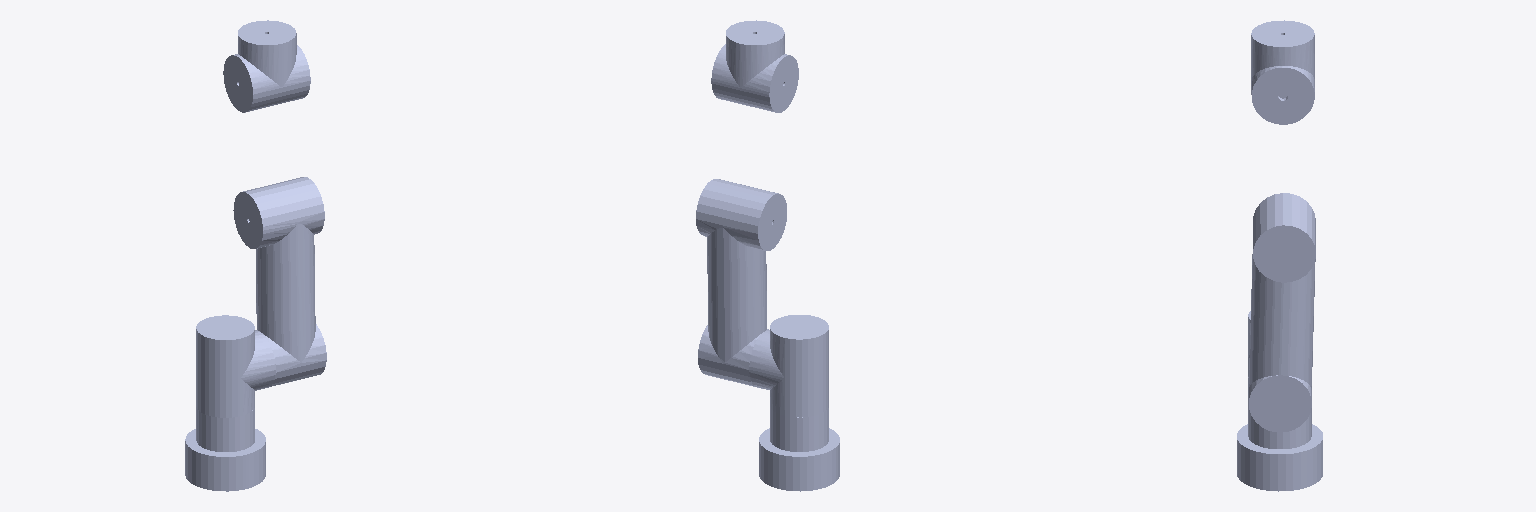
robot.urdf — ciara7:
<?xml version="1.0" encoding="utf-8"?>
<!-- This URDF was automatically created by SolidWorks to URDF Exporter! Originally created by Stephen Brawner (brawner@gmail.com) 
     Commit Version: 1.6.0-4-g7f85cfe  Build Version: 1.6.7995.38578
     For more information, please see http://wiki.ros.org/sw_urdf_exporter -->
<robot
  name="ciara7">
  <link
    name="base_link">
    <inertial>
      <origin
        xyz="-5.3047E-35 0.033905 1.1704E-18"
        rpy="0 0 0" />
      <mass
        value="0.34784" />
      <inertia
        ixx="0.00030423"
        ixy="-9.4382E-37"
        ixz="-3.5725E-37"
        iyy="0.00026302"
        iyz="4.9311E-21"
        izz="0.00030423" />
    </inertial>
    <visual>
      <origin
        xyz="0 0 0"
        rpy="0 0 0" />
      <geometry>
        <mesh
          filename="package://ciara7/meshes/base_link.STL" />
      </geometry>
      <material
        name="">
        <color
          rgba="0.79216 0.81961 0.93333 1" />
      </material>
    </visual>
    <collision>
      <origin
        xyz="0 0 0"
        rpy="0 0 0" />
      <geometry>
        <mesh
          filename="package://ciara7/meshes/base_link.STL" />
      </geometry>
    </collision>
  </link>
  <link
    name="link_1">
    <inertial>
      <origin
        xyz="0.0053016 1.7101E-05 0.084795"
        rpy="0 0 0" />
      <mass
        value="0.32209" />
      <inertia
        ixx="0.00027535"
        ixy="-1.1347E-07"
        ixz="2.0251E-06"
        iyy="0.00031023"
        iyz="6.6064E-09"
        izz="0.00019728" />
    </inertial>
    <visual>
      <origin
        xyz="0 0 0"
        rpy="0 0 0" />
      <geometry>
        <mesh
          filename="package://ciara7/meshes/link_1.STL" />
      </geometry>
      <material
        name="">
        <color
          rgba="0.79216 0.81961 0.93333 1" />
      </material>
    </visual>
    <collision>
      <origin
        xyz="0 0 0"
        rpy="0 0 0" />
      <geometry>
        <mesh
          filename="package://ciara7/meshes/link_1.STL" />
      </geometry>
    </collision>
  </link>
  <joint
    name="jnt_1"
    type="revolute">
    <origin
      xyz="0 0 0.04"
      rpy="0 0 0" />
    <parent
      link="base_link" />
    <child
      link="link_1" />
    <axis
      xyz="0 0 1" />
    <limit
      lower="-1.5708"
      upper="1.5708"
      effort="1.9613"
      velocity="3" />
  </joint>
  <link
    name="link_2">
    <inertial>
      <origin
        xyz="0.0022102 0.085247 0.07203"
        rpy="0 0 0" />
      <mass
        value="0.74363" />
      <inertia
        ixx="0.0033845"
        ixy="-7.6454E-05"
        ixz="2.9253E-06"
        iyy="0.00043764"
        iyz="0.00011281"
        izz="0.0033235" />
    </inertial>
    <visual>
      <origin
        xyz="0 0 0"
        rpy="0 0 0" />
      <geometry>
        <mesh
          filename="package://ciara7/meshes/link_2.STL" />
      </geometry>
      <material
        name="">
        <color
          rgba="0.79216 0.81961 0.93333 1" />
      </material>
    </visual>
    <collision>
      <origin
        xyz="0 0 0"
        rpy="0 0 0" />
      <geometry>
        <mesh
          filename="package://ciara7/meshes/link_2.STL" />
      </geometry>
    </collision>
  </link>
  <joint
    name="jnt_2"
    type="revolute">
    <origin
      xyz="0 0 0.083609"
      rpy="1.5708 0 1.574" />
    <parent
      link="link_1" />
    <child
      link="link_2" />
    <axis
      xyz="0 0 1" />
    <limit
      lower="-1.5708"
      upper="1.5708"
      effort="3.9227"
      velocity="3" />
  </joint>
  <link
    name="link_3">
    <inertial>
      <origin
        xyz="0.00064205 0.076724 0.086012"
        rpy="0 0 0" />
      <mass
        value="0.74403" />
      <inertia
        ixx="0.0033894"
        ixy="-2.4714E-05"
        ixz="-9.46E-07"
        iyy="0.00043638"
        iyz="-0.00011299"
        izz="0.0033261" />
    </inertial>
    <visual>
      <origin
        xyz="0 0 0"
        rpy="0 0 0" />
      <geometry>
        <mesh
          filename="package://ciara7/meshes/link_3.STL" />
      </geometry>
      <material
        name="">
        <color
          rgba="0.79216 0.81961 0.93333 1" />
      </material>
    </visual>
    <collision>
      <origin
        xyz="0 0 0"
        rpy="0 0 0" />
      <geometry>
        <mesh
          filename="package://ciara7/meshes/link_3.STL" />
      </geometry>
    </collision>
  </link>
  <joint
    name="jnt_3"
    type="revolute">
    <origin
      xyz="0.0041987 0.16195 0.074"
      rpy="-3.1416 0 3.1416" />
    <parent
      link="link_2" />
    <child
      link="link_3" />
    <axis
      xyz="0 0 1" />
    <limit
      lower="-2.3562"
      upper="2.3562"
      effort="3.9227"
      velocity="3" />
  </joint>
  <link
    name="end">
    <inertial>
      <origin
        xyz="-7.4895E-10 0.0099327 -0.035034"
        rpy="0 0 0" />
      <mass
        value="0.28528" />
      <inertia
        ixx="0.00023794"
        ixy="6.3275E-12"
        ixz="-2.4072E-11"
        iyy="0.0001749"
        iyz="-9.5075E-08"
        izz="0.00020802" />
    </inertial>
    <visual>
      <origin
        xyz="0 0 0"
        rpy="0 0 0" />
      <geometry>
        <mesh
          filename="package://ciara7/meshes/end.STL" />
      </geometry>
      <material
        name="">
        <color
          rgba="0.79216 0.81961 0.93333 1" />
      </material>
    </visual>
    <collision>
      <origin
        xyz="0 0 0"
        rpy="0 0 0" />
      <geometry>
        <mesh
          filename="package://ciara7/meshes/end.STL" />
      </geometry>
    </collision>
  </link>
  <joint
    name="jnt_4"
    type="revolute">
    <origin
      xyz="0.0013557 0.16199 -0.013"
      rpy="3.1416 0 -3.1416" />
    <parent
      link="link_3" />
    <child
      link="end" />
    <axis
      xyz="0 0 1" />
    <limit
      lower="-2.3562"
      upper="2.3562"
      effort="1.0787"
      velocity="3" />
  </joint>
</robot>

--- What the picture shows (computed from the rendered views, not written in the file) ---
Views: 3 orthographic renders of the robot side by side, from view 1: azimuth 30°, elevation 25°; view 2: azimuth 150°, elevation 25°; view 3: azimuth 270°, elevation 25°.
Model ciara7 with 5 links and 4 joints (4 revolute), rooted at base_link, posed all joints at 0.
Links seen in each view (by area): view 1: link_2, link_1, end, base_link; view 2: link_2, link_1, end, base_link; view 3: link_2, end, base_link.
Link boxes in pixels (left/top/right/bottom): link_2: left=233, top=177, right=326, bottom=386; link_1: left=196, top=315, right=275, bottom=417; end: left=223, top=20, right=310, bottom=112; base_link: left=185, top=407, right=265, bottom=491; link_2: left=696, top=179, right=786, bottom=386; link_1: left=749, top=315, right=828, bottom=417; end: left=711, top=20, right=798, bottom=112; base_link: left=759, top=407, right=839, bottom=491; link_2: left=1249, top=193, right=1315, bottom=432; end: left=1251, top=20, right=1314, bottom=124; base_link: left=1237, top=400, right=1322, bottom=491.
Bounding box of the posed robot: 0.1476 × 0.085 × 0.4985 m (x, y, z).
Meshes: 5 distinct files referenced, 4 mesh visuals loaded (4 binary STL); not drawn: 1 (reference not matched to a file when rendering).
